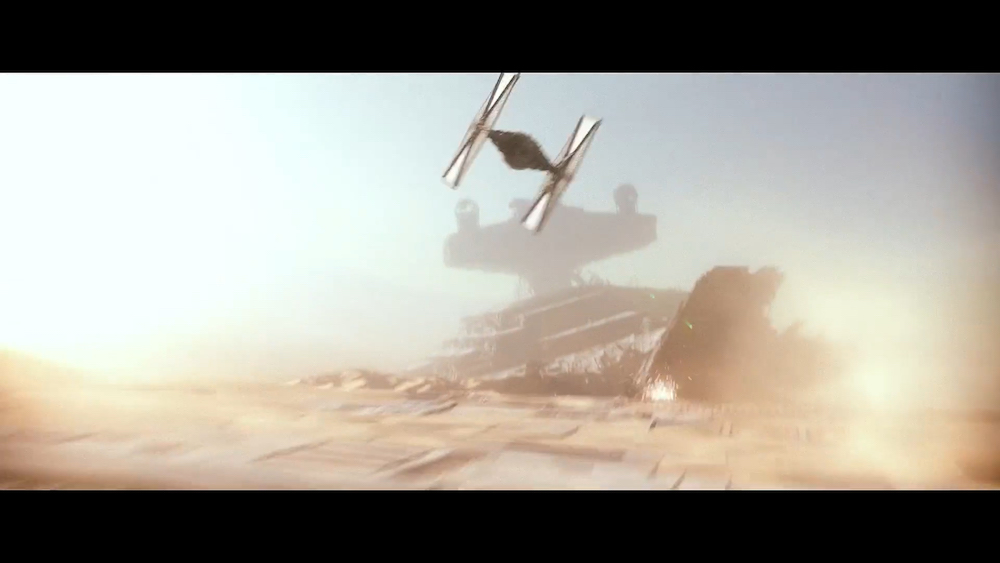Tie Fighter: (441, 73, 606, 236)
